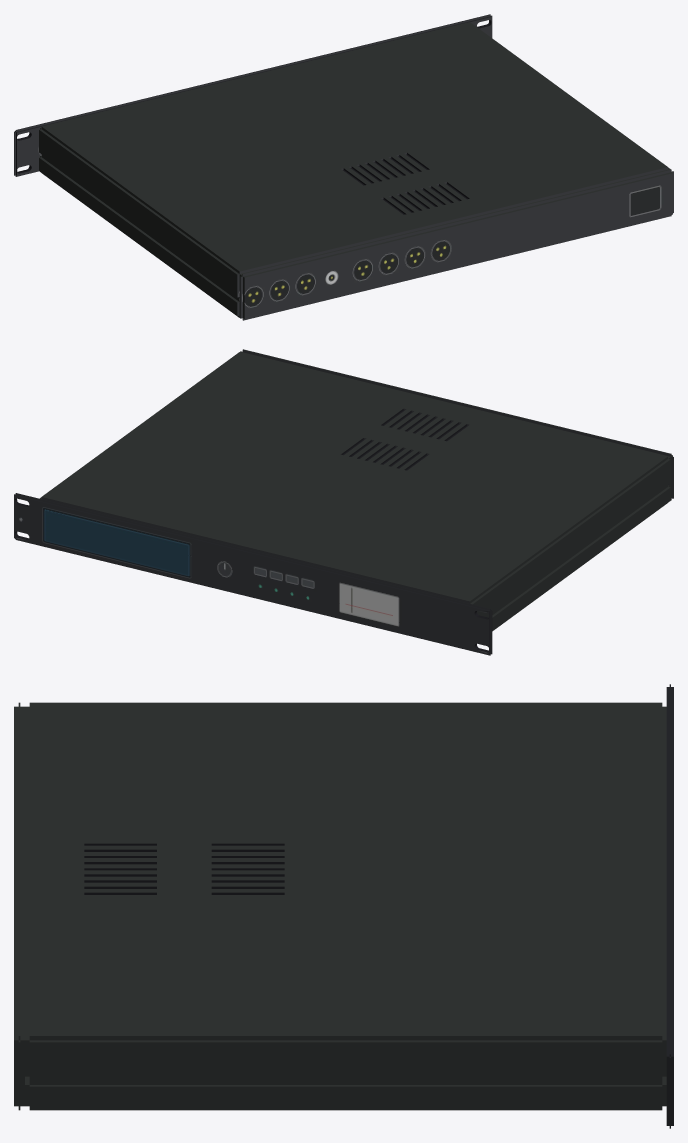
Rendered from orban-optimod-6300.glb.
3 renders of one model, top to bottom at view 1: azimuth 30°, elevation 25°; view 2: azimuth 150°, elevation 25°; view 3: azimuth 270°, elevation 25°, orthographic. The views are drawn at different scales.
Parts seen in each view (by area): view 1: orban-optimod-6300-body; view 2: orban-optimod-6300-body; view 3: orban-optimod-6300-body.
Boxes of the visible parts, <box> form: orban-optimod-6300-body: <box>14,14,673,320</box>; orban-optimod-6300-body: <box>14,349,673,655</box>; orban-optimod-6300-body: <box>14,684,673,1128</box>.
Bounding box in the file's own units: 0.483 × 0.045 × 0.362.
1 material, 1 textured.
